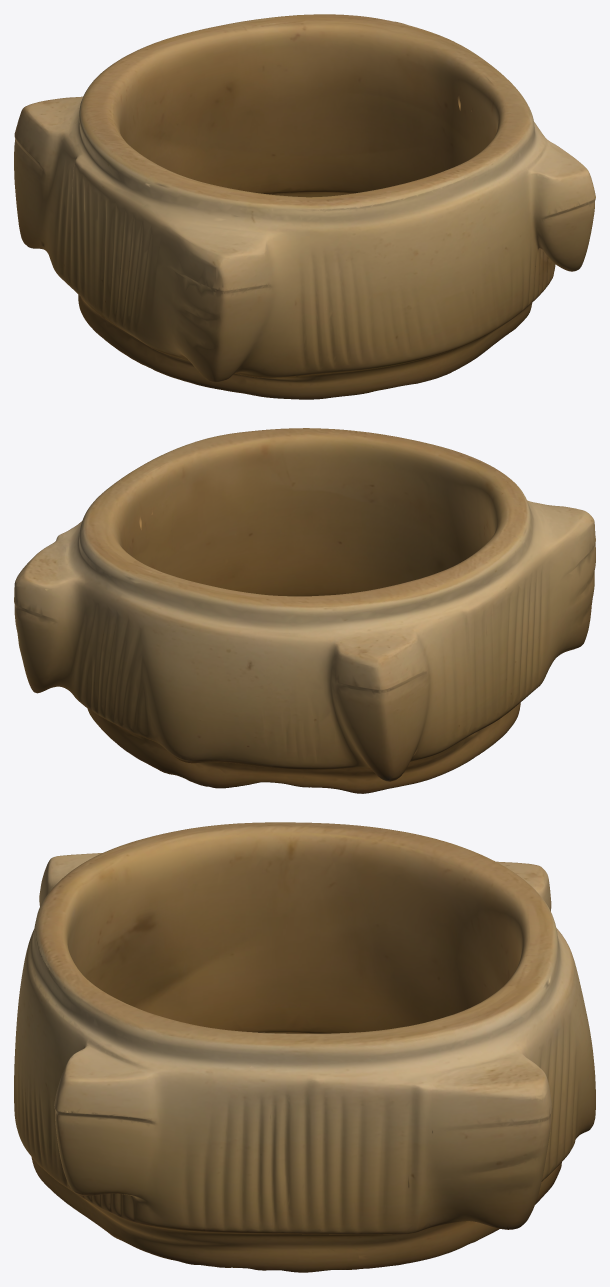
The model's file is shang.glb.
3 views of the same model, one above another, from view 1: azimuth 30°, elevation 25°; view 2: azimuth 150°, elevation 25°; view 3: azimuth 270°, elevation 25° (orthographic). The views are drawn at different scales.
Visible parts, largest first — view 1: node_0; view 2: node_0; view 3: node_0.
Boxes of the visible parts, x1,y1,x2,y2 form: node_0: (14, 14, 595, 399); node_0: (14, 428, 595, 793); node_0: (14, 822, 595, 1272).
Size of the model in its own units: 0.899 by 0.4166 by 0.9304.
Materials: 1 (1 with a texture image).
